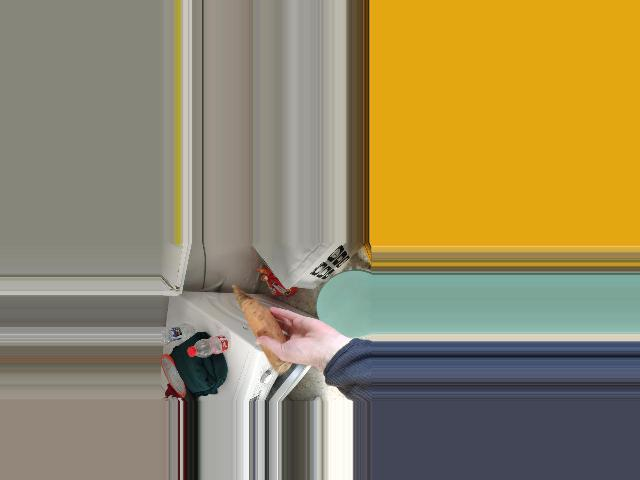sweet_potato: (239, 305, 285, 353)
